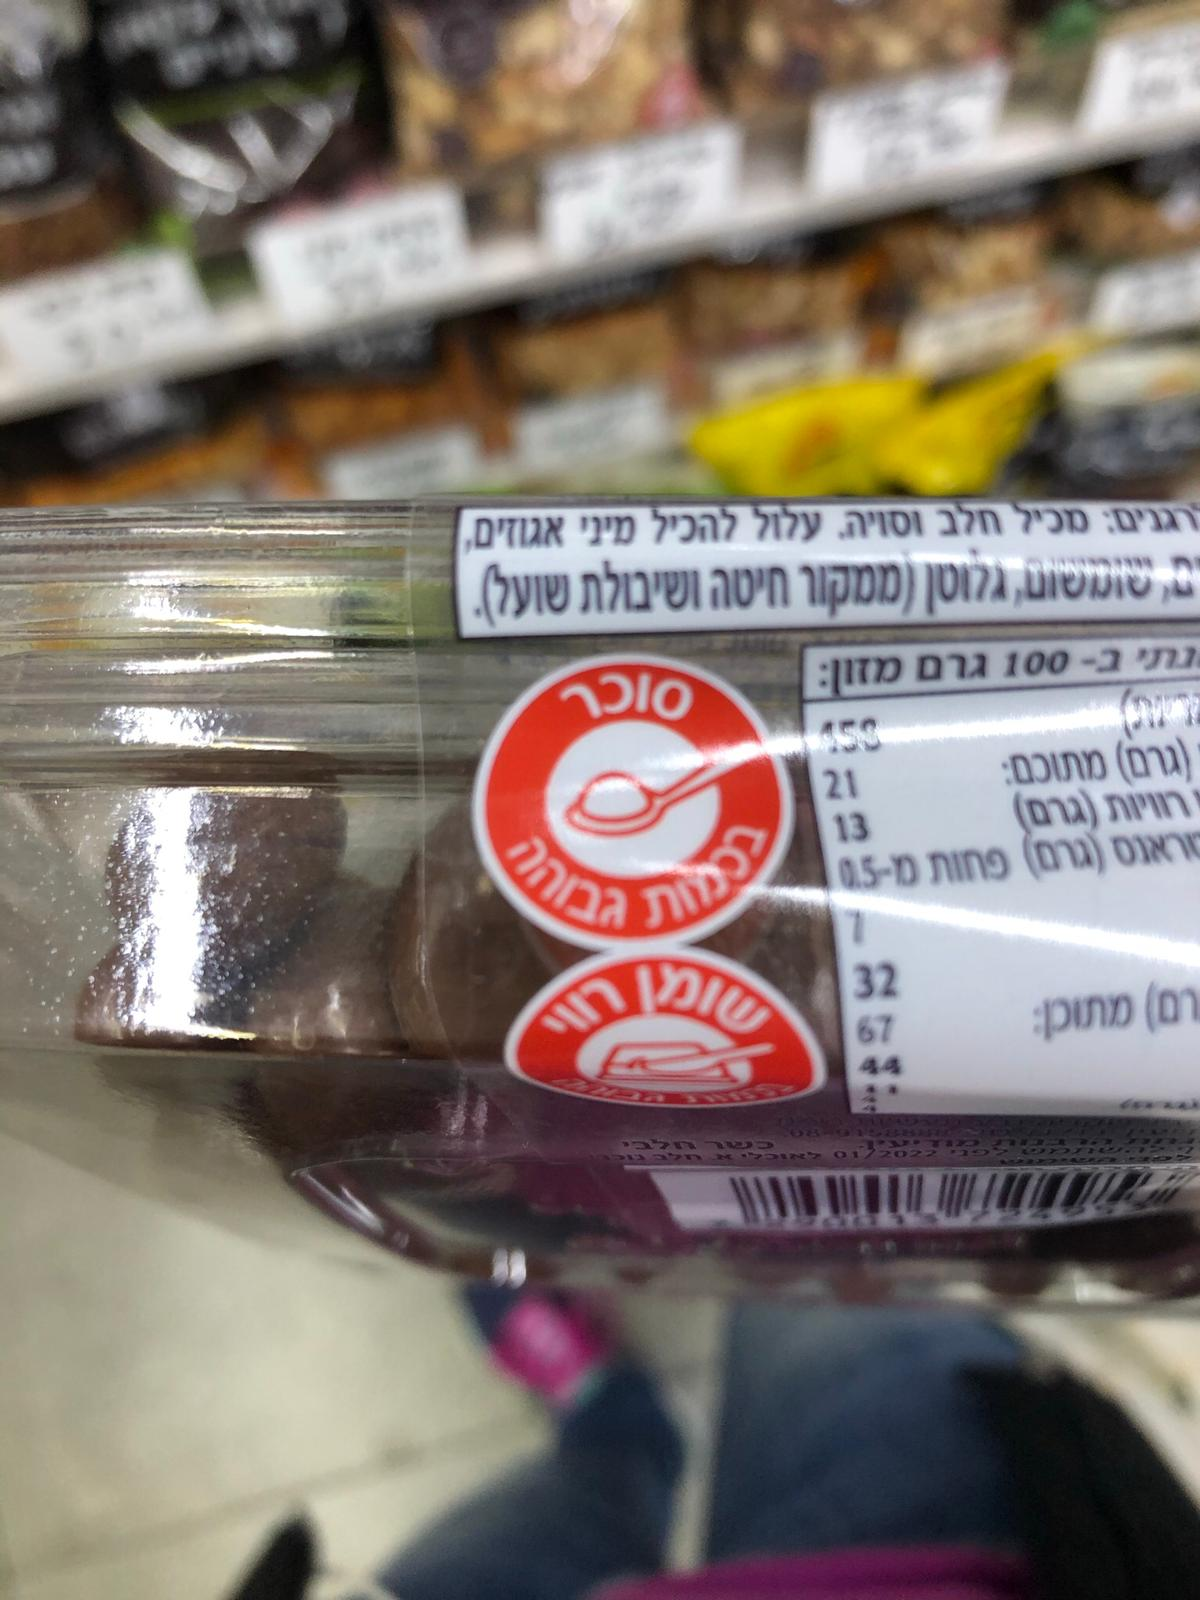fat: (502, 947, 827, 1115)
sugar: (471, 650, 797, 955)
